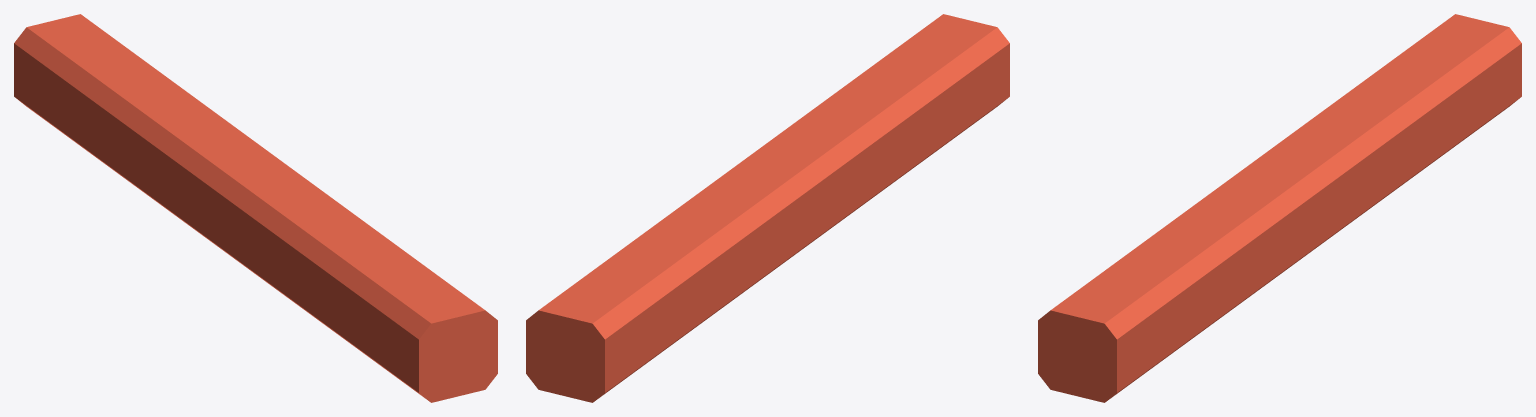
Rendered from Türsturz.fbx.
3 renders of one model, left to right at view 1: azimuth 30°, elevation 25°; view 2: azimuth 150°, elevation 25°; view 3: azimuth 330°, elevation 25°, orthographic.
Parts seen in each view (by area): view 1: Cube.005; view 2: Cube.005; view 3: Cube.005.
Part boxes in pixels (box(x1,y1,x2,y2)): Cube.005: box(14, 14, 497, 402); Cube.005: box(526, 14, 1009, 402); Cube.005: box(1038, 14, 1521, 402).
Bounding box in the file's own units: 99.39 × 95.46 × 883.
